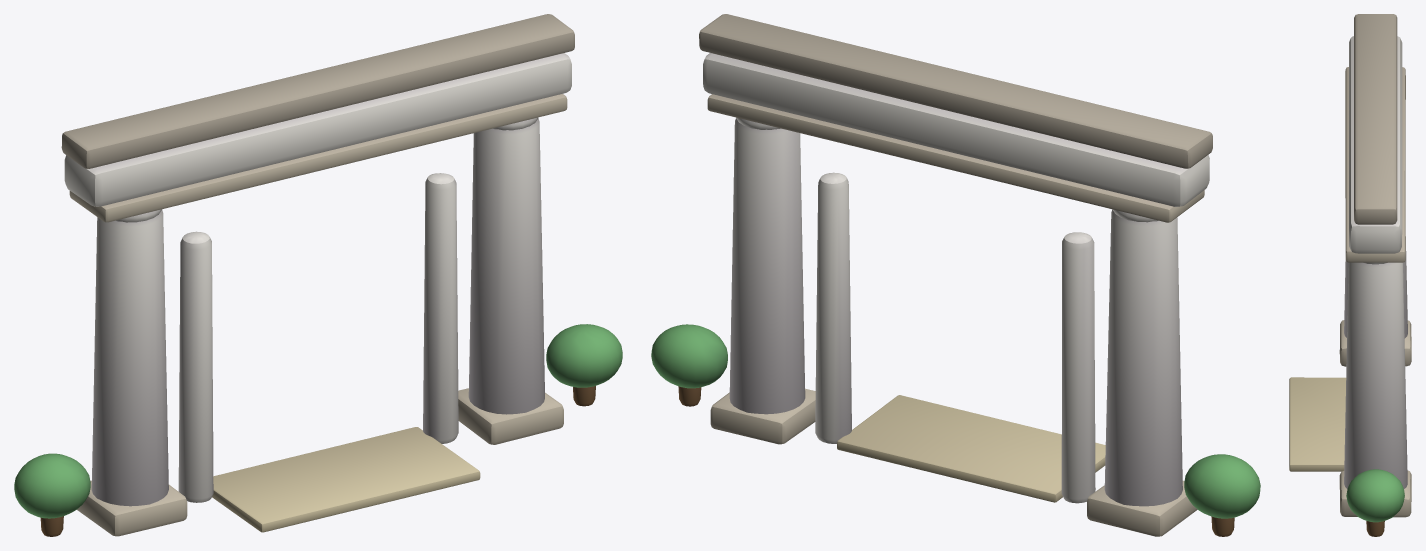
The picture shows the model from 3 angles, left to right: view 1: azimuth 30°, elevation 25°; view 2: azimuth 150°, elevation 25°; view 3: azimuth 270°, elevation 25°; orthographic projection. The views are drawn at different scales.
Parts seen in each view (by area): view 1: gate_53c708f2; view 2: gate_53c708f2; view 3: gate_53c708f2.
Boxes of the visible parts, bbox=[...] form: gate_53c708f2: bbox=[14, 14, 622, 536]; gate_53c708f2: bbox=[651, 14, 1260, 536]; gate_53c708f2: bbox=[1289, 14, 1411, 536].
Bounding box in the file's own units: 6.57 × 4.06 × 1.41.
